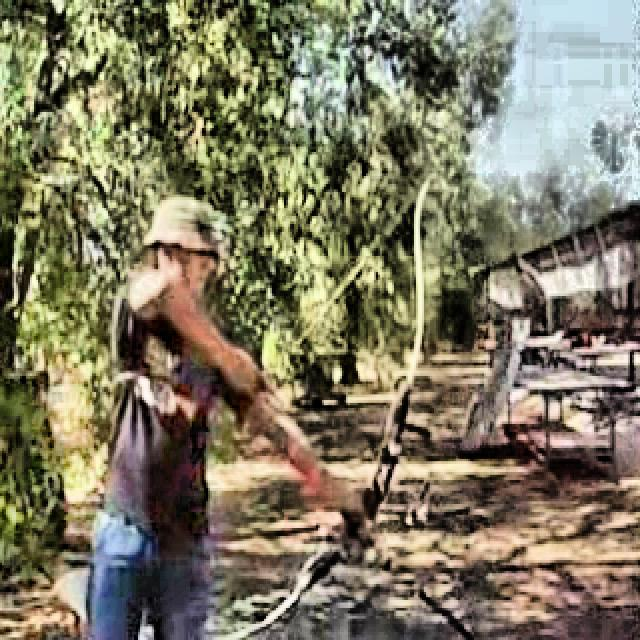I: (76, 188, 386, 640)
